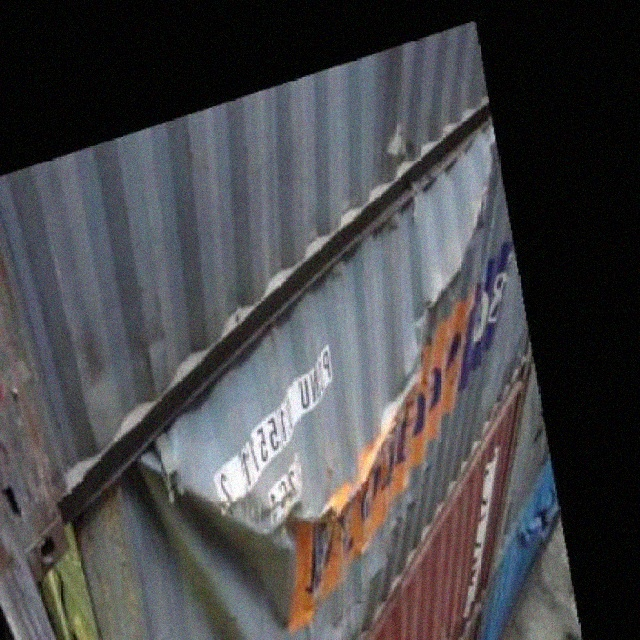Dent: (363, 235, 527, 463), (134, 464, 296, 635)
